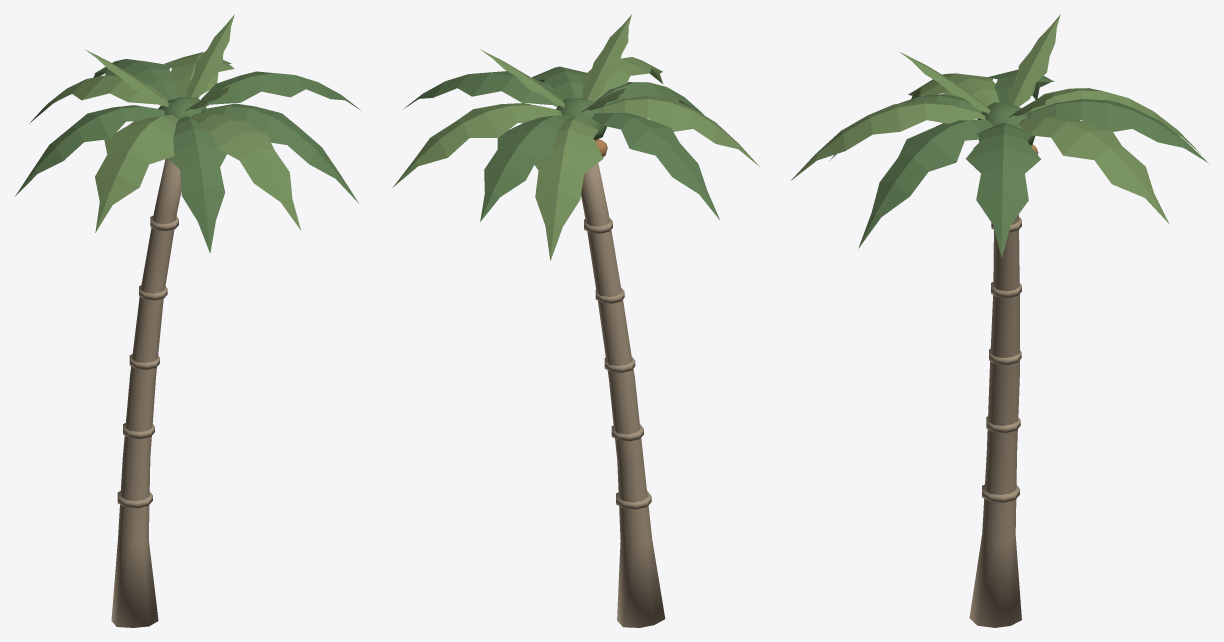
Rendered from v_tree_palm.glb.
3 views of the same model, side by side, from view 1: azimuth 30°, elevation 25°; view 2: azimuth 150°, elevation 25°; view 3: azimuth 270°, elevation 25° (orthographic). The views are drawn at different scales.
Visible parts, largest first — view 1: Palm; view 2: Palm; view 3: Palm.
Part boxes in pixels (bbox=[...]): Palm: bbox=[15, 14, 362, 627]; Palm: bbox=[393, 14, 760, 627]; Palm: bbox=[791, 14, 1208, 627].
Size of what is drawn, in the model's own units: 5.5 by 8.74 by 5.6.
